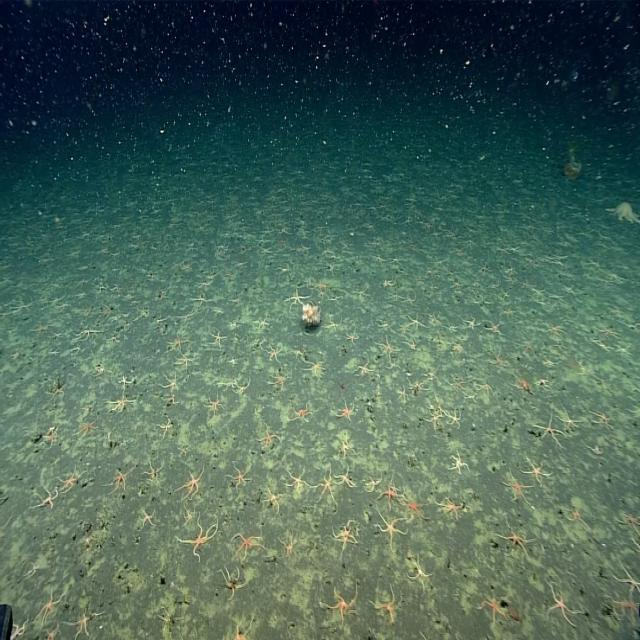brittle-stars: (181, 519, 218, 559), (548, 583, 580, 627), (320, 587, 357, 623), (32, 590, 66, 626), (496, 524, 535, 553), (611, 588, 640, 626), (65, 612, 104, 639), (230, 530, 265, 560), (376, 513, 406, 546), (612, 555, 640, 589), (371, 590, 402, 620), (176, 468, 204, 499), (501, 474, 532, 502), (401, 495, 430, 524), (332, 525, 358, 556), (156, 607, 182, 638), (478, 598, 506, 626), (535, 415, 562, 444), (613, 509, 640, 538), (562, 506, 594, 530), (58, 466, 85, 494), (106, 466, 134, 493), (520, 461, 550, 484), (313, 473, 334, 505), (72, 416, 99, 440), (407, 563, 430, 591), (222, 570, 244, 598), (263, 488, 286, 514), (283, 289, 310, 311), (436, 501, 464, 522), (257, 428, 282, 450), (283, 473, 309, 494), (106, 395, 136, 413), (141, 462, 165, 484), (288, 402, 312, 424), (556, 410, 580, 432), (379, 338, 400, 363), (31, 492, 58, 511), (232, 617, 254, 640), (509, 374, 533, 395), (448, 453, 470, 475), (44, 379, 66, 401), (332, 466, 353, 489), (226, 468, 250, 488), (158, 373, 180, 394), (204, 393, 224, 415), (379, 486, 401, 506), (303, 361, 326, 380), (10, 619, 30, 640), (424, 409, 444, 430), (277, 536, 296, 558), (589, 412, 614, 428), (156, 415, 172, 439), (167, 336, 188, 354), (335, 437, 351, 459), (460, 316, 482, 332), (488, 350, 507, 368), (337, 401, 354, 421), (594, 338, 615, 354), (8, 300, 30, 315), (268, 372, 287, 389), (475, 379, 494, 396), (216, 378, 236, 394), (43, 623, 61, 640), (484, 319, 502, 336), (364, 477, 383, 493), (139, 510, 155, 529), (408, 314, 427, 330), (421, 366, 440, 382), (173, 355, 192, 371), (446, 410, 461, 430), (209, 331, 226, 348), (249, 335, 266, 352), (234, 377, 250, 395), (355, 360, 373, 376), (42, 431, 58, 449), (177, 309, 195, 325), (407, 380, 428, 393), (22, 562, 38, 579), (389, 480, 402, 500), (251, 318, 270, 331), (73, 330, 100, 339), (92, 366, 110, 379), (546, 324, 565, 336), (600, 325, 619, 337), (325, 319, 342, 332), (450, 377, 467, 390), (626, 535, 640, 550), (383, 274, 397, 289), (345, 331, 361, 344), (388, 290, 404, 302), (397, 387, 408, 404), (162, 394, 179, 405), (32, 326, 49, 337), (352, 287, 369, 298), (587, 445, 601, 458), (403, 338, 418, 350), (463, 391, 478, 403), (192, 296, 209, 306), (54, 302, 71, 312), (195, 280, 212, 290), (389, 253, 402, 266), (451, 340, 464, 353), (267, 349, 281, 361), (94, 282, 108, 294), (536, 377, 552, 387), (376, 316, 389, 328), (404, 293, 416, 306), (372, 252, 385, 264), (101, 304, 112, 318), (75, 279, 90, 289), (625, 405, 640, 415), (120, 375, 132, 387), (617, 345, 630, 356), (154, 292, 168, 302), (544, 359, 560, 367), (230, 261, 248, 268), (292, 348, 302, 360), (205, 272, 218, 280), (108, 336, 118, 346), (449, 325, 458, 334), (223, 274, 234, 281), (180, 266, 192, 272)
